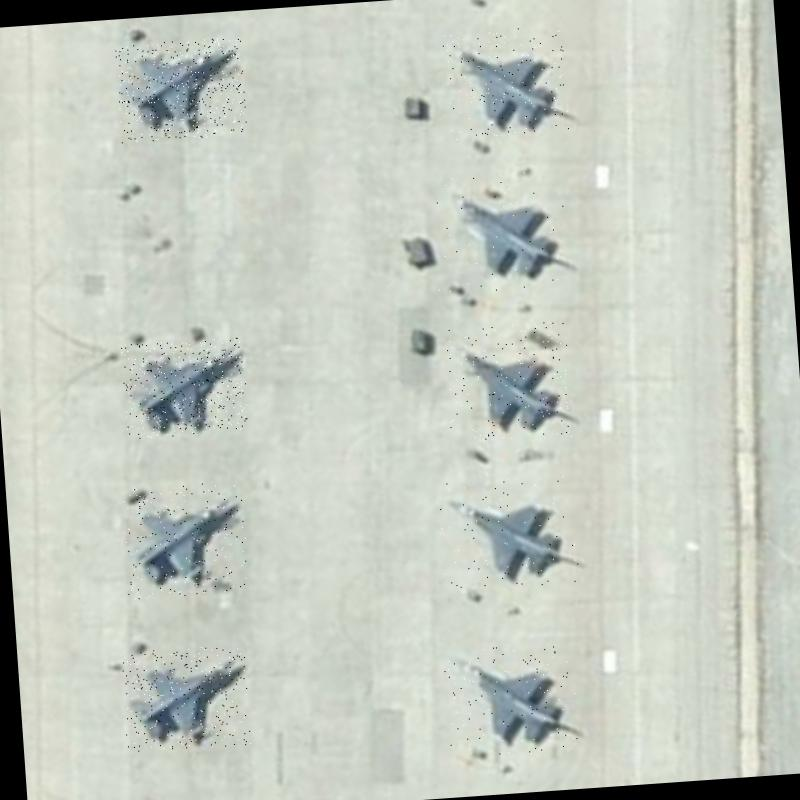A5: (430, 166, 570, 296), (436, 474, 583, 593), (443, 640, 578, 760), (443, 320, 573, 444), (120, 481, 248, 600), (442, 25, 568, 140), (114, 36, 248, 143), (120, 644, 251, 752), (120, 336, 250, 439)
